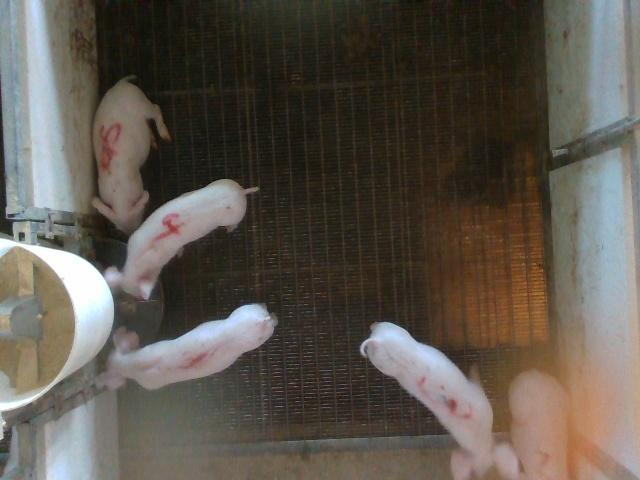pig-1: (96, 304, 276, 390)
pig-3: (360, 322, 519, 479)
pig-4: (104, 180, 257, 299)
pig-5: (92, 75, 170, 234)
